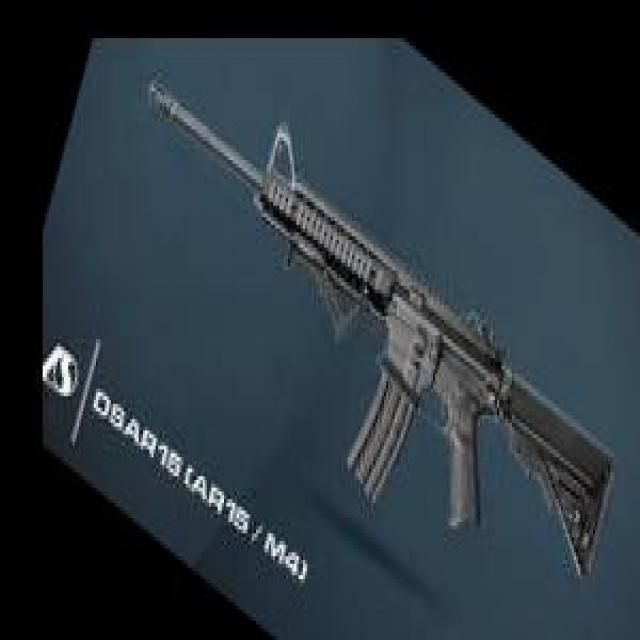weapon: (146, 74, 618, 592)
